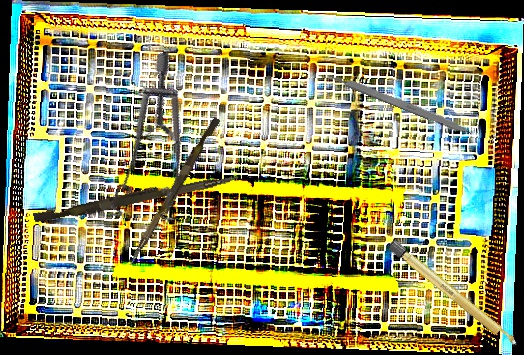Pusher: (127, 114, 221, 270), (32, 166, 240, 229)
Scalpel Handle: (385, 238, 523, 352), (326, 69, 474, 137)
Speculum: (62, 50, 224, 241)
